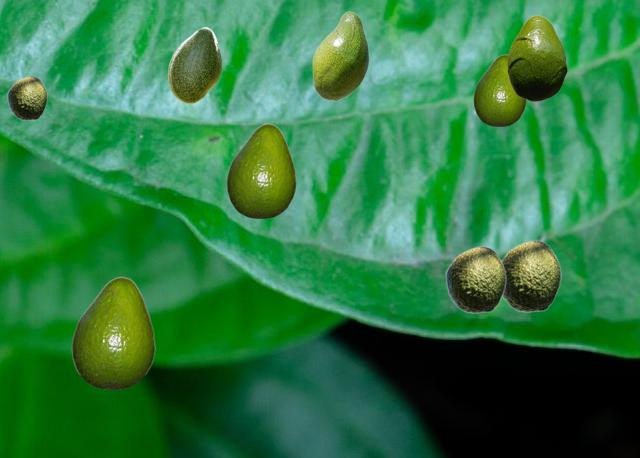avocado: (71, 276, 154, 388), (226, 123, 295, 217), (507, 15, 566, 100), (312, 11, 368, 100), (502, 240, 560, 311), (445, 246, 505, 312), (168, 27, 220, 102), (473, 54, 525, 125), (7, 76, 46, 119)
